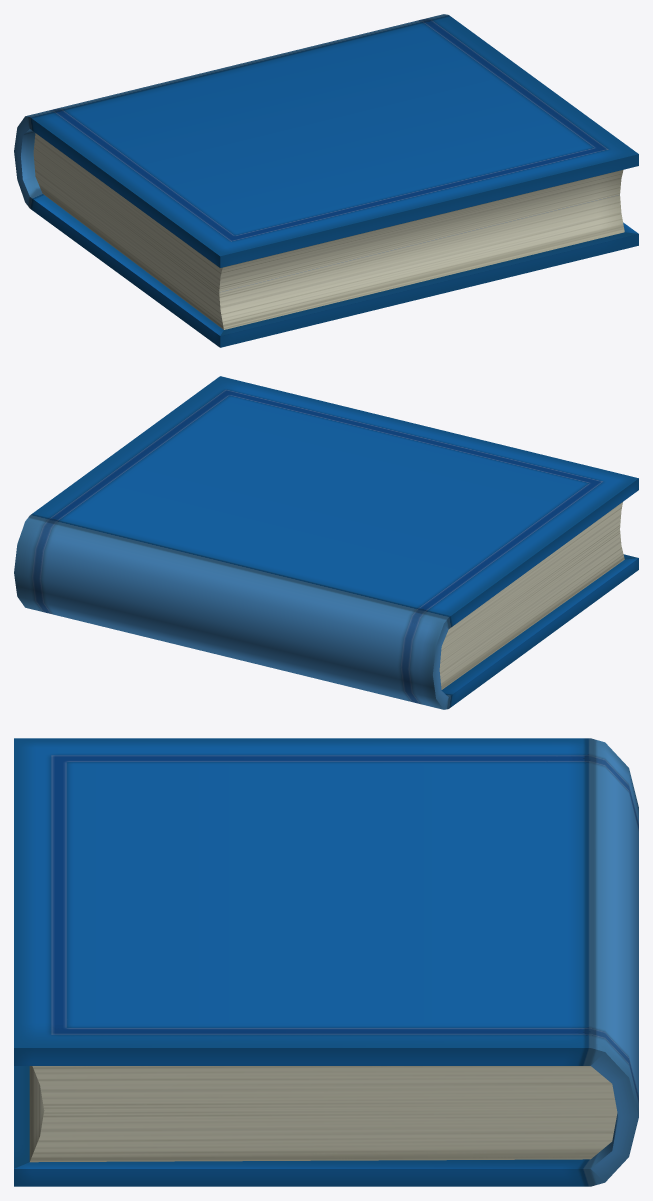
Rendered from book_close.FBX.
The picture shows the model from 3 angles, top to bottom: view 1: azimuth 30°, elevation 25°; view 2: azimuth 150°, elevation 25°; view 3: azimuth 270°, elevation 25°; orthographic projection. The views are drawn at different scales.
Visible parts, largest first — view 1: book_b; view 2: book_b; view 3: book_b.
Boxes of the visible parts, x1,y1,x2,y2 form: book_b: (14,14,638,347); book_b: (14,376,638,709); book_b: (14,738,638,1186).
Bounding box in the file's own units: 5.94 × 1.24 × 5.06.
